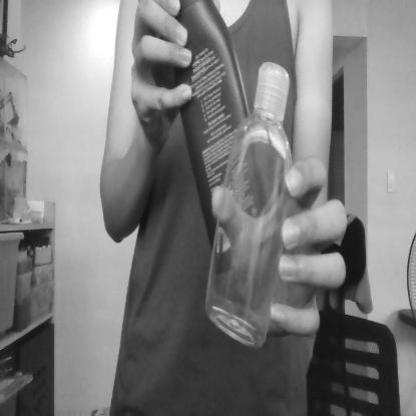Plastic Bottle: (204, 61, 292, 351)
